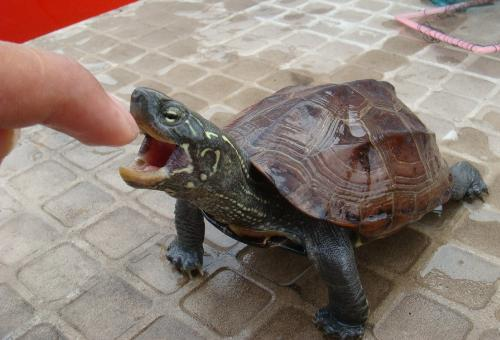tortoise: (114, 77, 489, 339)
